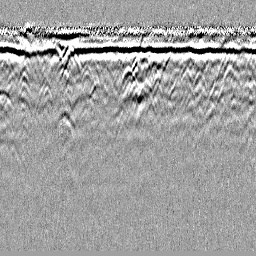cavity: (120, 65, 138, 89)
